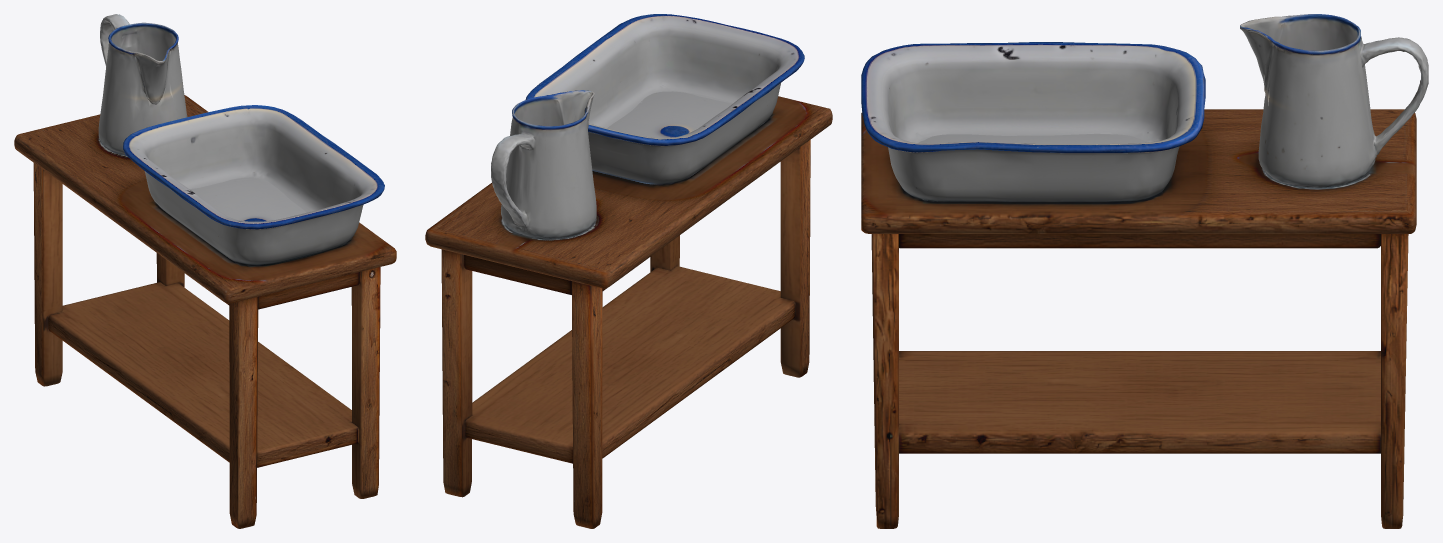
The picture shows the model from 3 angles, left to right: view 1: azimuth 30°, elevation 25°; view 2: azimuth 150°, elevation 25°; view 3: azimuth 270°, elevation 25°; orthographic projection. The views are drawn at different scales.
Parts seen in each view (by area): view 1: tripo_node_e1d7810f-7684-4edf-b15d-7b6859b28ee3; view 2: tripo_node_e1d7810f-7684-4edf-b15d-7b6859b28ee3; view 3: tripo_node_e1d7810f-7684-4edf-b15d-7b6859b28ee3.
Boxes of the visible parts, x1,y1,x2,y2 form: tripo_node_e1d7810f-7684-4edf-b15d-7b6859b28ee3: (14,14,396,528); tripo_node_e1d7810f-7684-4edf-b15d-7b6859b28ee3: (425,14,832,528); tripo_node_e1d7810f-7684-4edf-b15d-7b6859b28ee3: (861,14,1428,528).
Size of the model in its own units: 0.4668 by 0.8887 by 0.998.
Materials: 1 (1 with a texture image).
